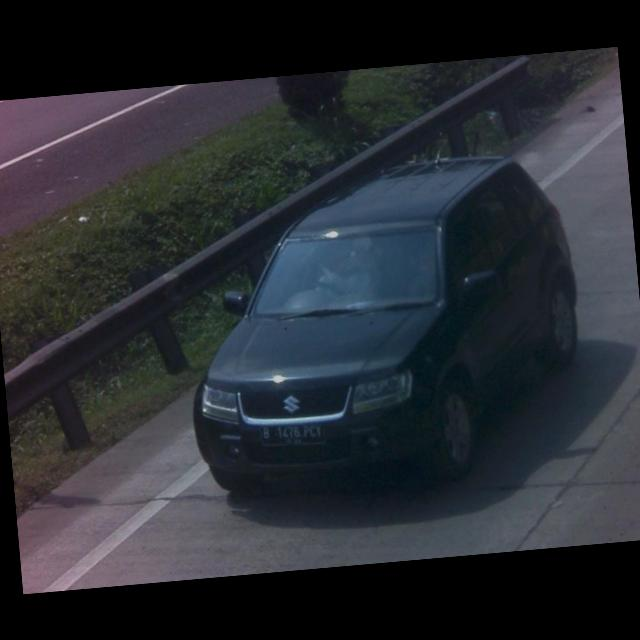plate: (257, 418, 327, 450)
